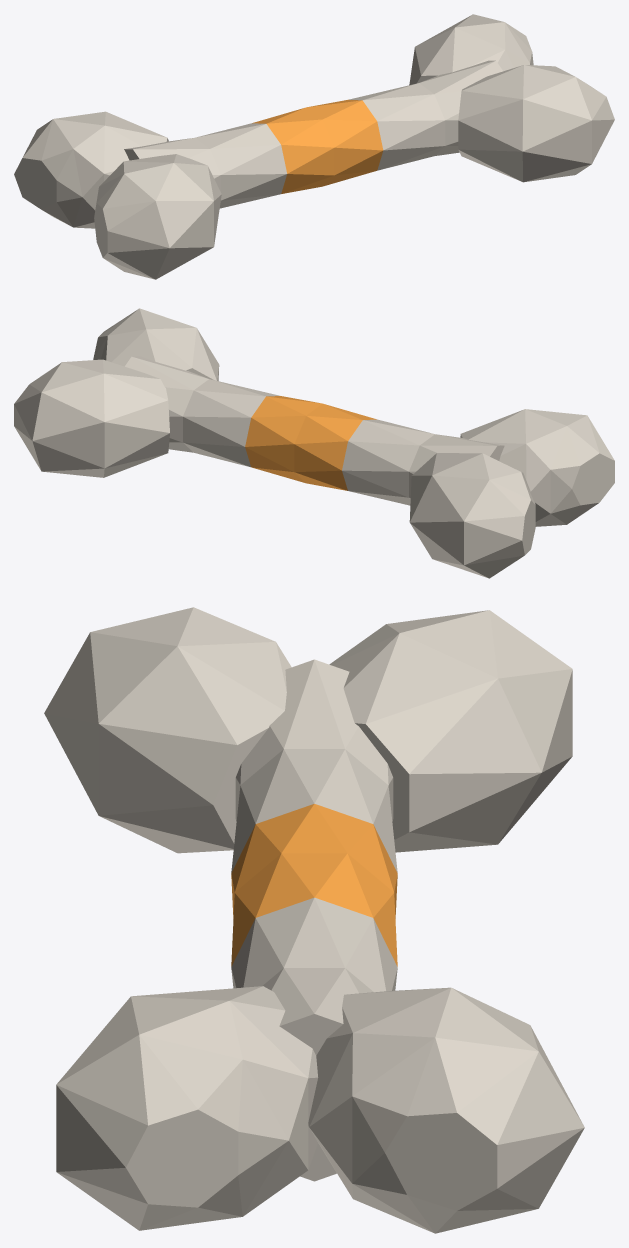
The model's file is cozy_shiba_toy_bone.fbx.
3 renders of one model, top to bottom at view 1: azimuth 30°, elevation 25°; view 2: azimuth 150°, elevation 25°; view 3: azimuth 270°, elevation 25°, orthographic. The views are drawn at different scales.
Parts seen in each view (by area): view 1: ToyBone_Mesh; view 2: ToyBone_Mesh; view 3: ToyBone_Mesh.
Part boxes in pixels (x1,y1,x2,y2): ToyBone_Mesh: (14,14,614,279); ToyBone_Mesh: (14,308,614,578); ToyBone_Mesh: (44,607,584,1233).
Bounding box in the file's own units: 18.97 × 3.7 × 8.77.
